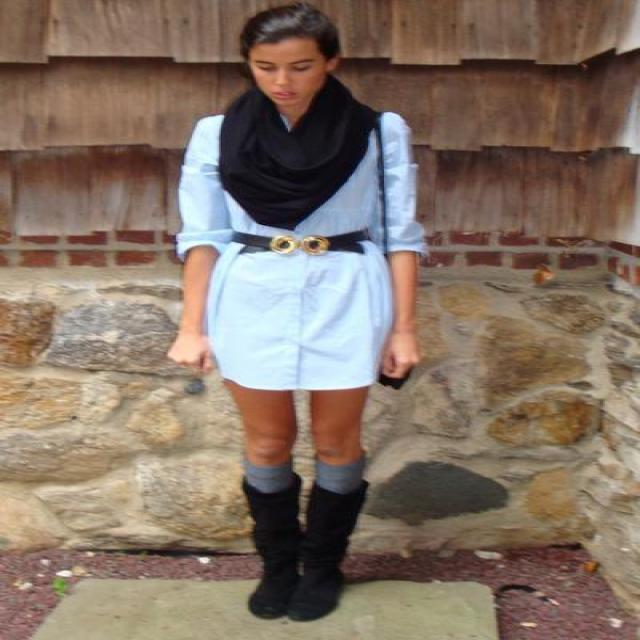dress: (178, 116, 427, 390)
shoe: (244, 480, 366, 621)
